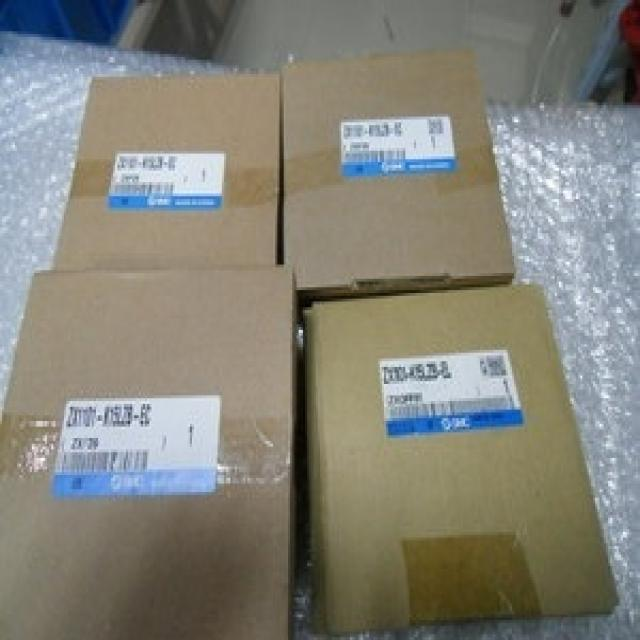box: (303, 282, 619, 637), (0, 270, 297, 640), (282, 46, 516, 310), (49, 71, 284, 276)
